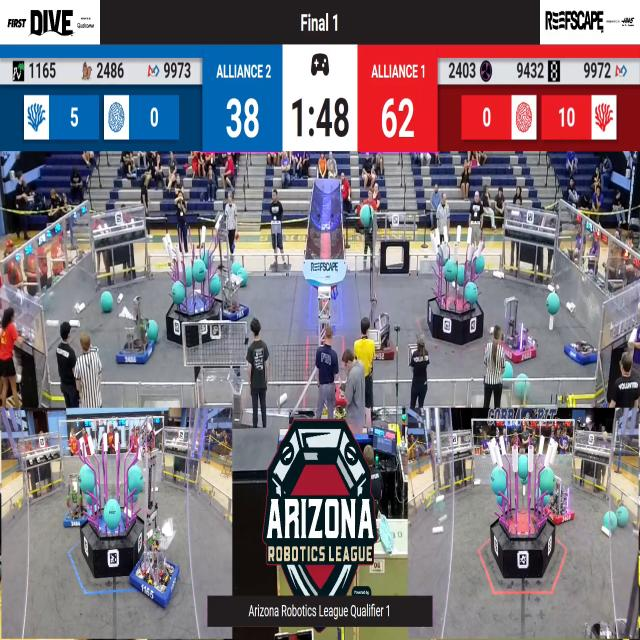scoreboard: (0, 44, 640, 149)
